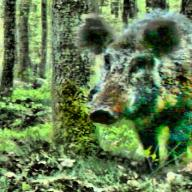boar: (79, 0, 192, 162)
